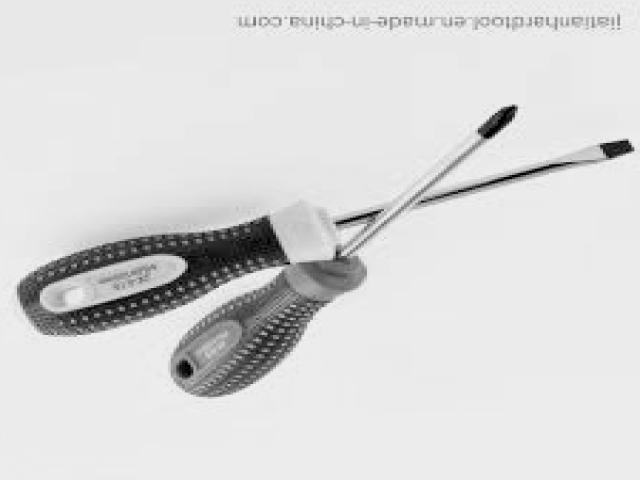Screwdriver: (13, 138, 633, 339), (171, 106, 518, 395)
